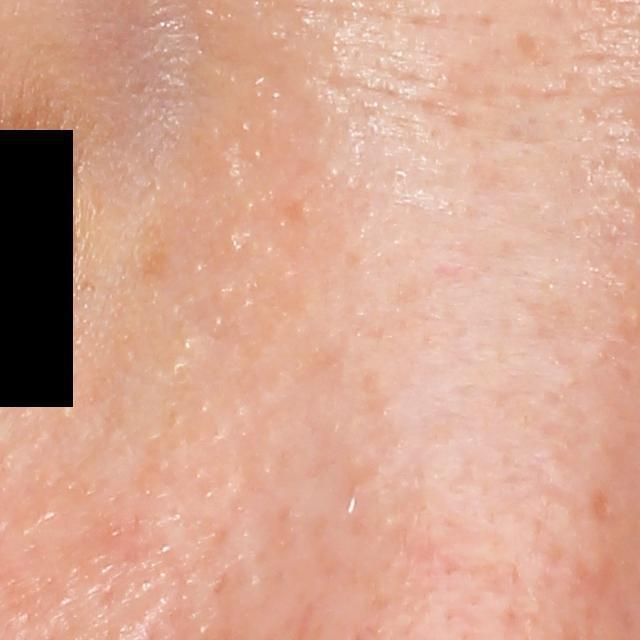melasma: (135, 223, 168, 288)
